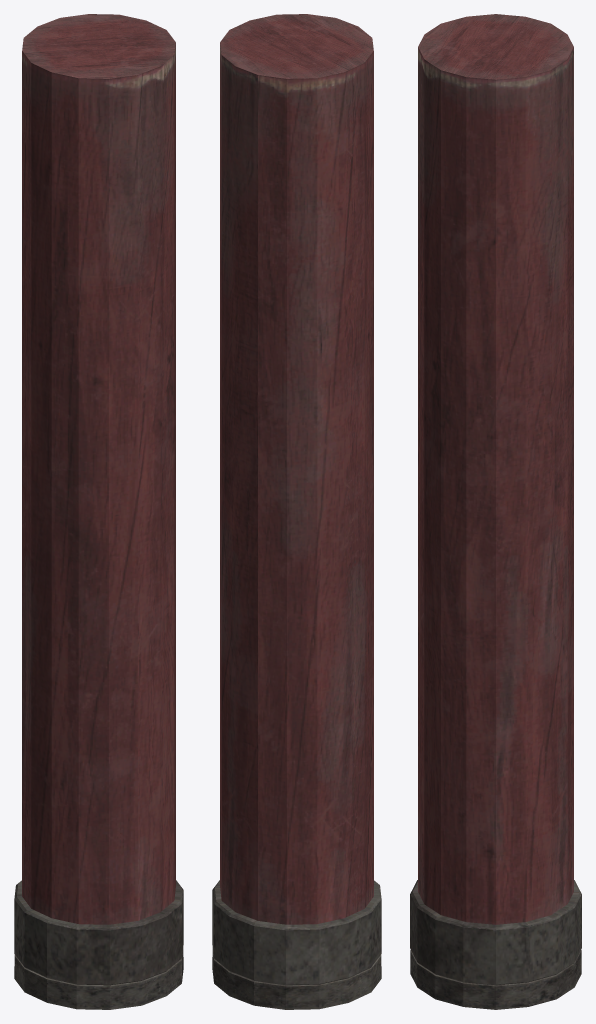
File: ZhuZi_2.fbx
3 views of the same model, side by side, from view 1: azimuth 30°, elevation 25°; view 2: azimuth 150°, elevation 25°; view 3: azimuth 270°, elevation 25° (orthographic).
Parts seen in each view (by area): view 1: 3D_ZhuZi2.mo; view 2: 3D_ZhuZi2.mo; view 3: 3D_ZhuZi2.mo.
Boxes of the visible parts, x1,y1,x2,y2 form: 3D_ZhuZi2.mo: [14, 14, 183, 1009]; 3D_ZhuZi2.mo: [212, 14, 381, 1009]; 3D_ZhuZi2.mo: [410, 14, 581, 1009].
Bounding box in the file's own units: 31.82 × 190 × 31.82.
Materials: 1 (1 with a texture image).
